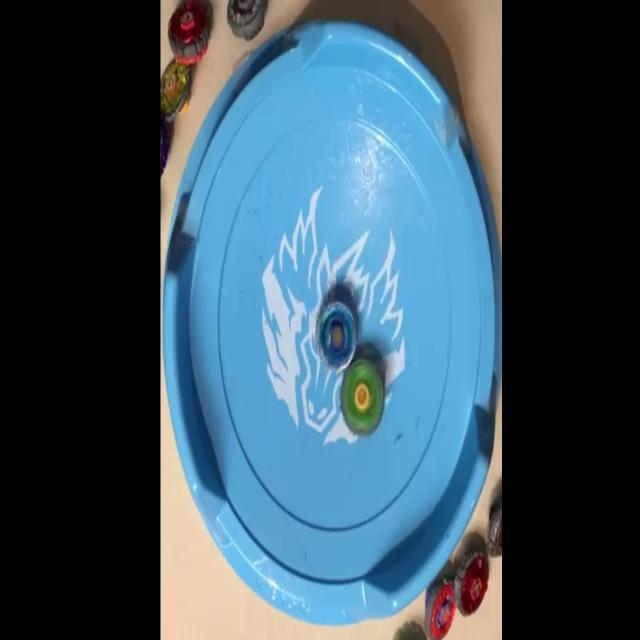Beyblade: (341, 358, 385, 436), (316, 300, 357, 372), (168, 0, 211, 64), (454, 544, 490, 616), (161, 58, 192, 125), (424, 579, 455, 640)
